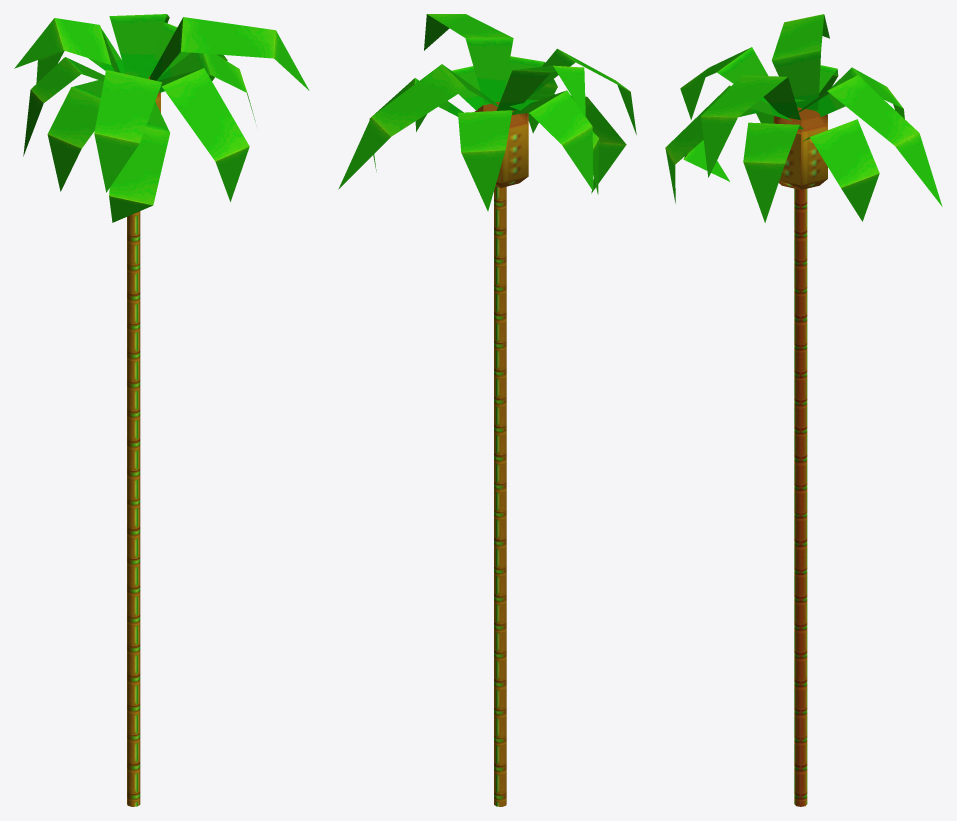
Rendered from GreenHillTree.obj.
The picture shows the model from 3 angles, left to right: view 1: azimuth 30°, elevation 25°; view 2: azimuth 150°, elevation 25°; view 3: azimuth 270°, elevation 25°; orthographic projection. The views are drawn at different scales.
Bounding box in the file's own units: 24.5 × 80.02 × 26.5.
1 material, 1 textured.
